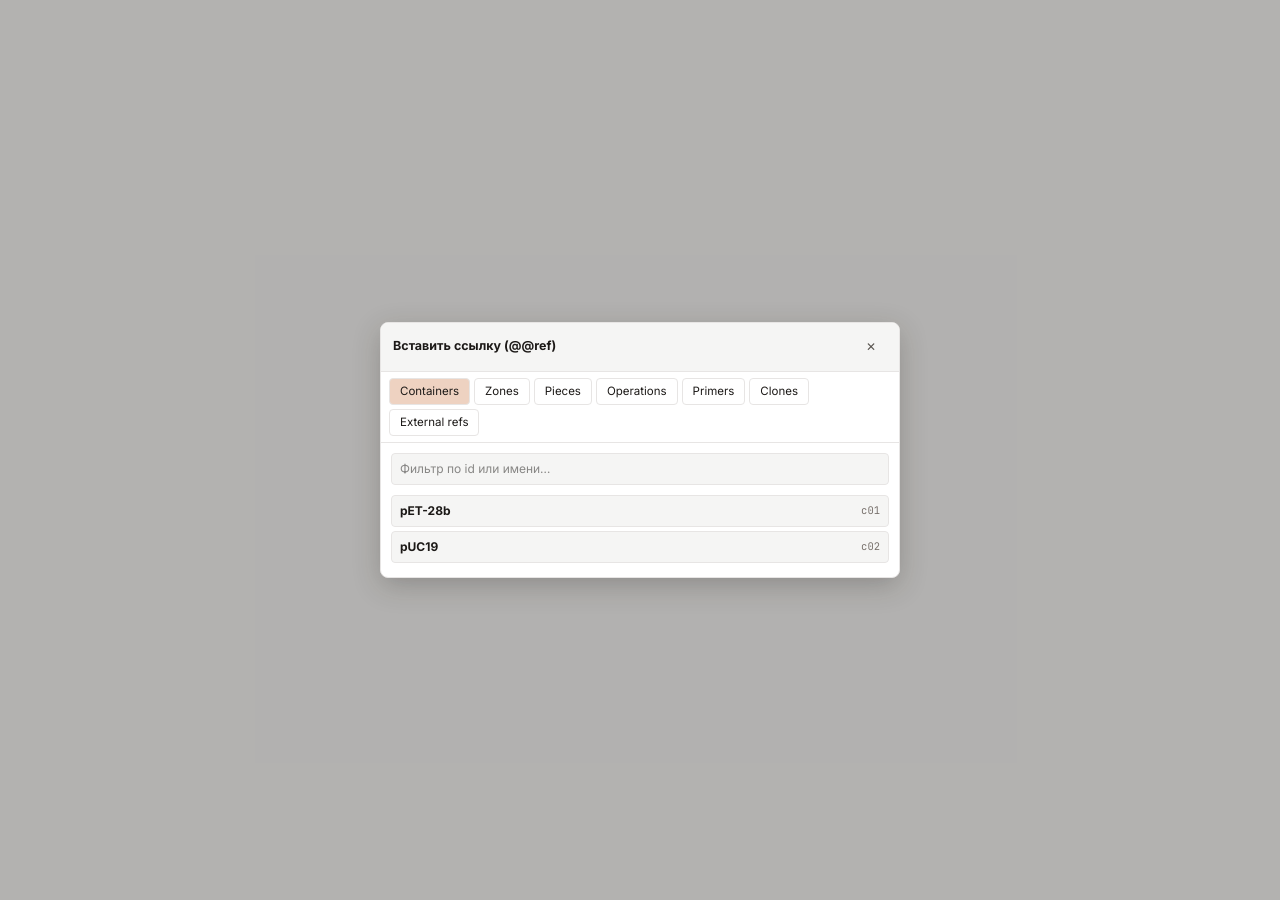
Scenario: NB-K14 — NotebookRefPickerModal UI › switching to zones tab shows zone entries
Click the button with test id "ref-picker-tab-zone" at (502, 391), box left=474, top=378, right=530, bottom=405
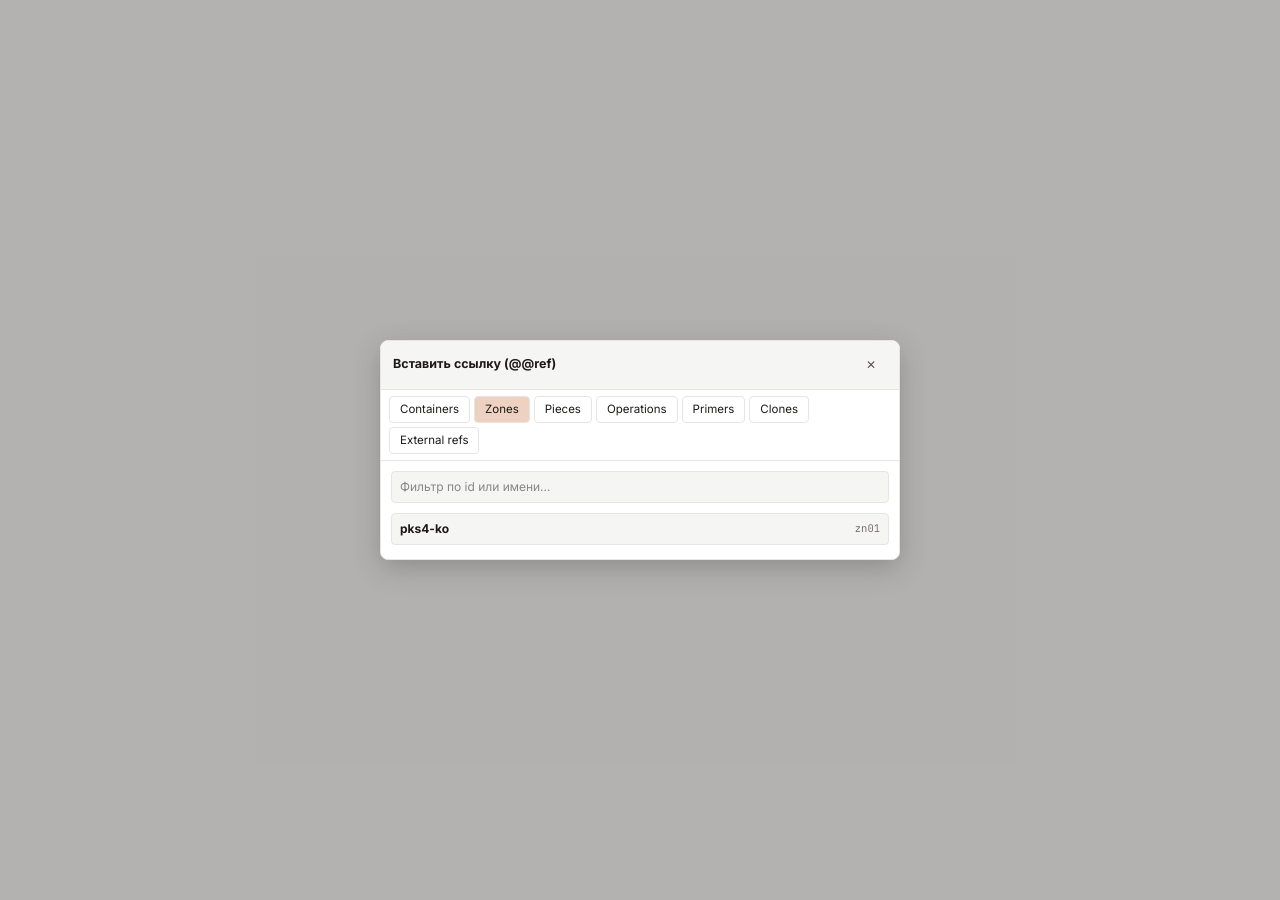
Expected: the button with test id "ref-picker-item-zn01" is shown, left=391, top=513, right=889, bottom=545
